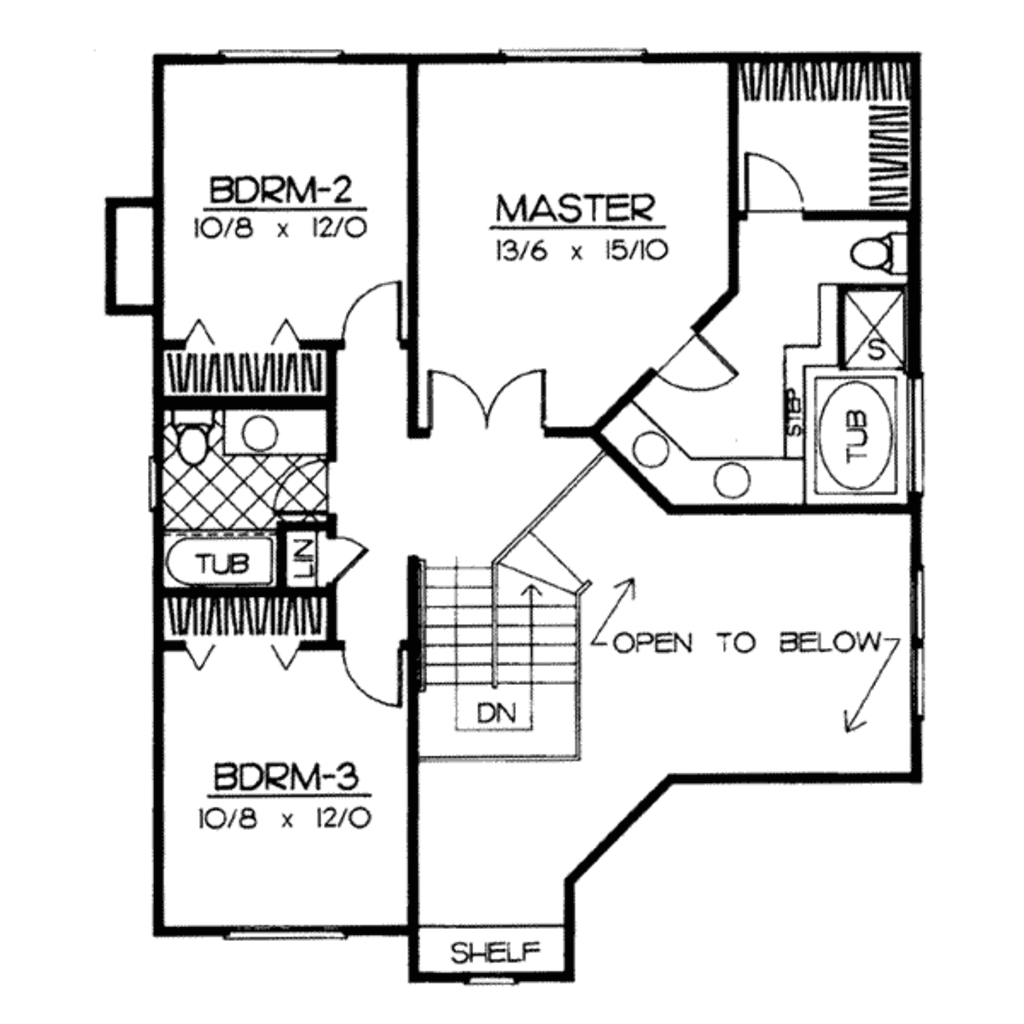door: (416, 361, 552, 437), (643, 321, 753, 399), (337, 265, 413, 357), (327, 636, 410, 710), (735, 137, 805, 219), (315, 527, 370, 591)
large_sink: (841, 213, 919, 276), (168, 406, 219, 474)
small_sink: (601, 395, 809, 520), (226, 411, 332, 460)
stairs: (417, 540, 598, 768)
tub: (163, 532, 294, 593)
window: (898, 572, 931, 725), (493, 37, 647, 63), (225, 916, 349, 943), (216, 43, 342, 63), (465, 968, 528, 990)
